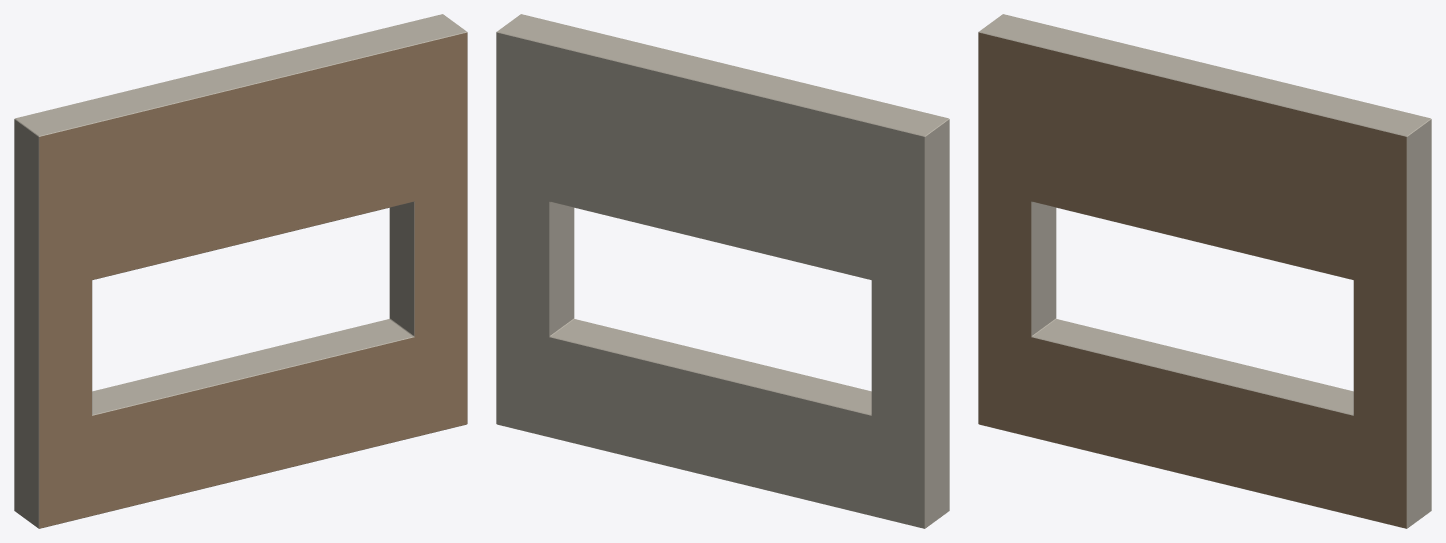
The model's file is arch_wall_ext_window_wide_w400_h350.glb.
The picture shows the model from 3 angles, left to right: view 1: azimuth 30°, elevation 25°; view 2: azimuth 150°, elevation 25°; view 3: azimuth 330°, elevation 25°; orthographic projection.
Parts seen in each view (by area): view 1: Wall; view 2: Wall; view 3: Wall.
Boxes of the visible parts, x1,y1,x2,y2 form: Wall: (14, 14, 467, 528); Wall: (496, 14, 949, 528); Wall: (978, 14, 1431, 528).
Size of what is drawn, in the model's own units: 4 by 3.5 by 0.4.
